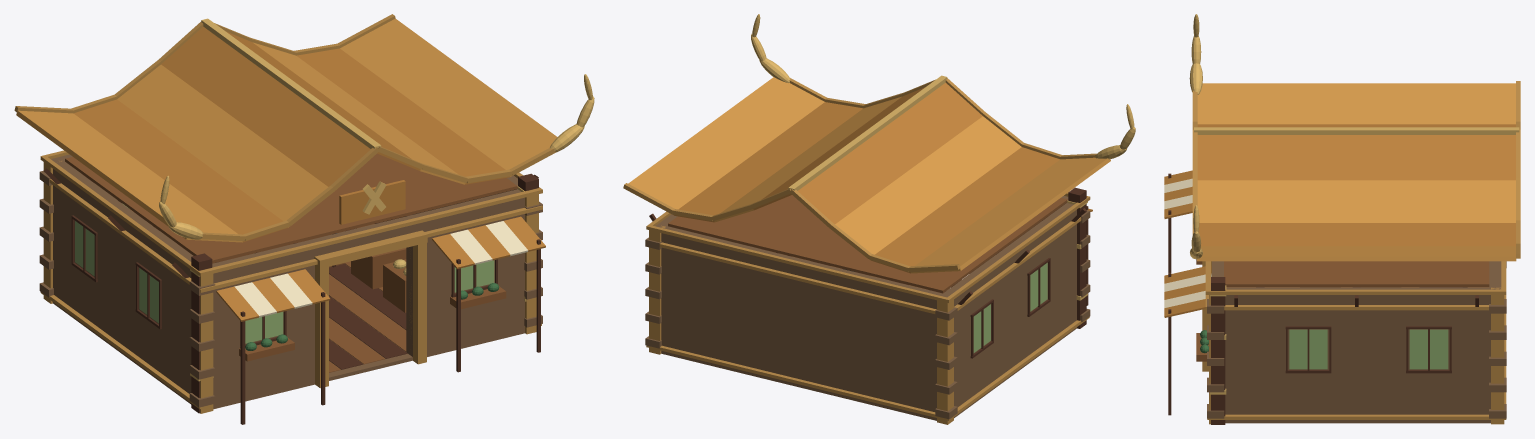
File: Market.glb
The picture shows the model from 3 angles, left to right: view 1: azimuth 30°, elevation 25°; view 2: azimuth 150°, elevation 25°; view 3: azimuth 270°, elevation 25°; orthographic projection. The views are drawn at different scales.
Parts seen in each view (by area): view 1: Market_002_Side, Market_290_ProfileRoof, Market_269_ProfileRoof, Market_272_ProfileRoof, Market_095_Ceiling, Market_040_FrontWing, Market_003_FrontWing, Market_275_ProfileRoof, Market_278_ProfileRoof, Market_287_ProfileRoof, Market_284_ProfileRoof, Market_085_FrontCourse (+42 smaller); view 2: Market_001_Rear, Market_002_Side, Market_290_ProfileRoof, Market_269_ProfileRoof, Market_095_Ceiling, Market_272_ProfileRoof, Market_275_ProfileRoof, Market_278_ProfileRoof, Market_287_ProfileRoof, Market_284_ProfileRoof, Market_086_RearCourse, Market_078_RearCourse (+12 smaller); view 3: Market_039_Side, Market_281_ProfileRoof, Market_284_ProfileRoof, Market_278_ProfileRoof, Market_287_ProfileRoof, Market_095_Ceiling, Market_290_ProfileRoof, Market_293_Ridge, Market_088_SideCourse, Market_080_SideCourse, Market_301_HearthTimber, Market_084_SideCourse (+13 smaller).
Part boxes in pixels (bbox=[...]): Market_002_Side: bbox=[51, 157, 193, 403]; Market_290_ProfileRoof: bbox=[340, 18, 557, 176]; Market_269_ProfileRoof: bbox=[161, 26, 370, 186]; Market_272_ProfileRoof: bbox=[117, 64, 328, 227]; Market_095_Ceiling: bbox=[65, 153, 517, 263]; Market_040_FrontWing: bbox=[406, 189, 523, 356]; Market_003_FrontWing: bbox=[212, 238, 323, 407]; Market_275_ProfileRoof: bbox=[74, 99, 287, 242]; Market_278_ProfileRoof: bbox=[16, 110, 242, 242]; Market_287_ProfileRoof: bbox=[296, 48, 510, 184]; Market_284_ProfileRoof: bbox=[253, 42, 465, 184]; Market_085_FrontCourse: bbox=[198, 187, 542, 276]; Market_001_Rear: bbox=[661, 226, 949, 420]; Market_002_Side: bbox=[941, 203, 1076, 416]; Market_290_ProfileRoof: bbox=[628, 77, 824, 215]; Market_269_ProfileRoof: bbox=[798, 82, 982, 223]; Market_095_Ceiling: bbox=[668, 195, 1067, 293]; Market_272_ProfileRoof: bbox=[835, 116, 1021, 260]; Market_275_ProfileRoof: bbox=[871, 147, 1059, 273]; Market_278_ProfileRoof: bbox=[911, 157, 1110, 273]; Market_287_ProfileRoof: bbox=[674, 102, 862, 222]; Market_284_ProfileRoof: bbox=[714, 96, 901, 222]; Market_086_RearCourse: bbox=[646, 224, 950, 302]; Market_078_RearCourse: bbox=[646, 345, 950, 420]; Market_039_Side: bbox=[1225, 287, 1490, 423]; Market_281_ProfileRoof: bbox=[1197, 135, 1515, 180]; Market_284_ProfileRoof: bbox=[1197, 180, 1515, 222]; Market_278_ProfileRoof: bbox=[1197, 83, 1515, 124]; Market_287_ProfileRoof: bbox=[1198, 223, 1515, 246]; Market_095_Ceiling: bbox=[1224, 261, 1489, 286]; Market_290_ProfileRoof: bbox=[1197, 246, 1516, 261]; Market_293_Ridge: bbox=[1194, 127, 1519, 134]; Market_088_SideCourse: bbox=[1207, 289, 1506, 294]; Market_080_SideCourse: bbox=[1207, 414, 1505, 419]; Market_301_HearthTimber: bbox=[1211, 277, 1225, 424]; Market_084_SideCourse: bbox=[1224, 305, 1488, 310].
Bounding box in the file's own units: 39.13 × 21.74 × 29.56.
